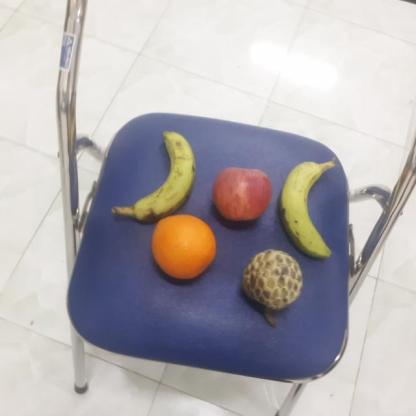annona: (238, 248, 304, 308)
apple: (209, 165, 275, 222)
banana: (127, 126, 197, 226), (279, 156, 334, 258)
orange: (149, 212, 216, 283)
